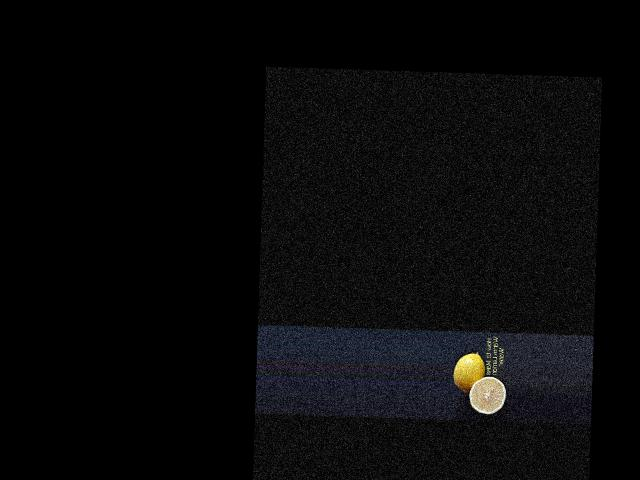lemon: (452, 350, 483, 392)
